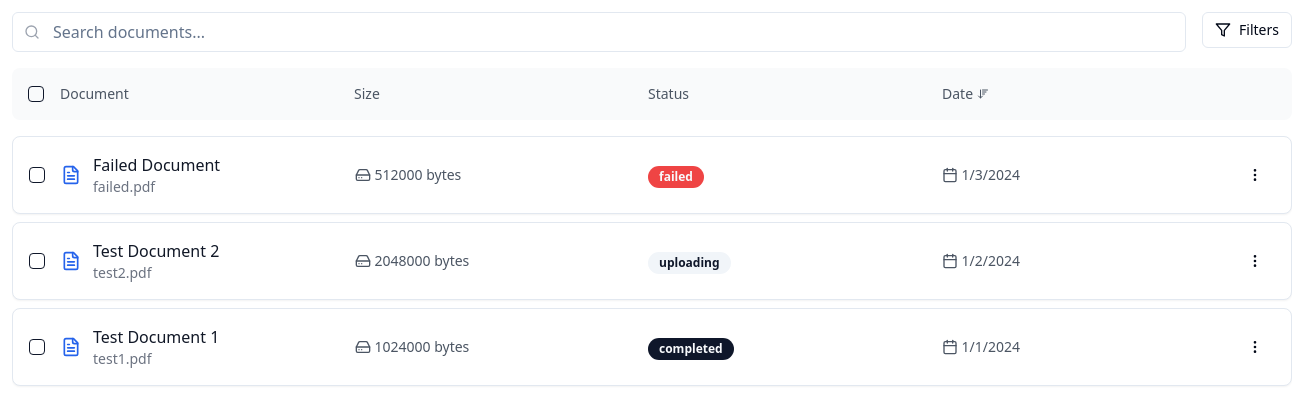
Test: DocumentList Component › shows empty state when no documents match filters
This screenshot has width=1304, height=403.
Type "nonexistent document" into the field with placeholder "Search documents...".
click(599, 32); type("nonexistent document")  # box [12,12,1186,52]
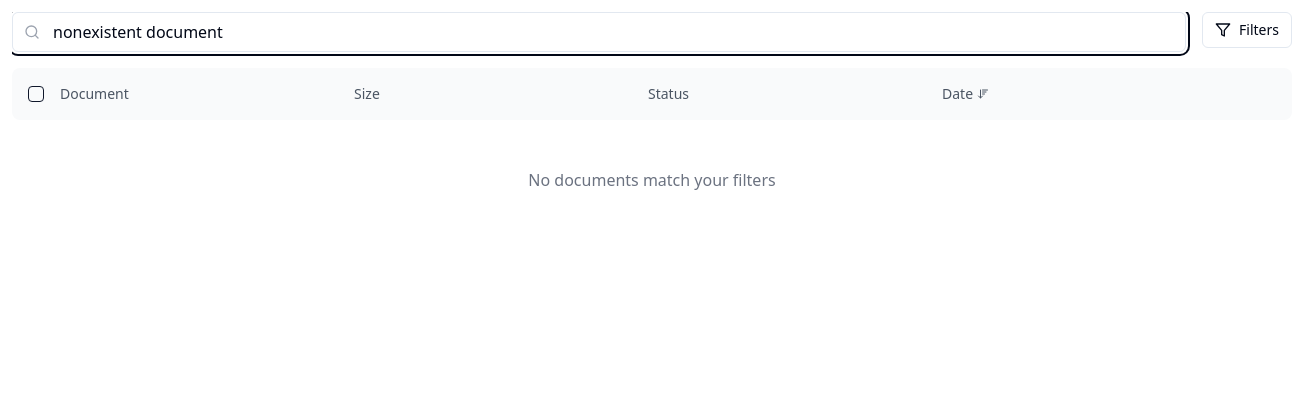
Expected: the text "No documents match your filters" is shown, [528,169,776,191]
